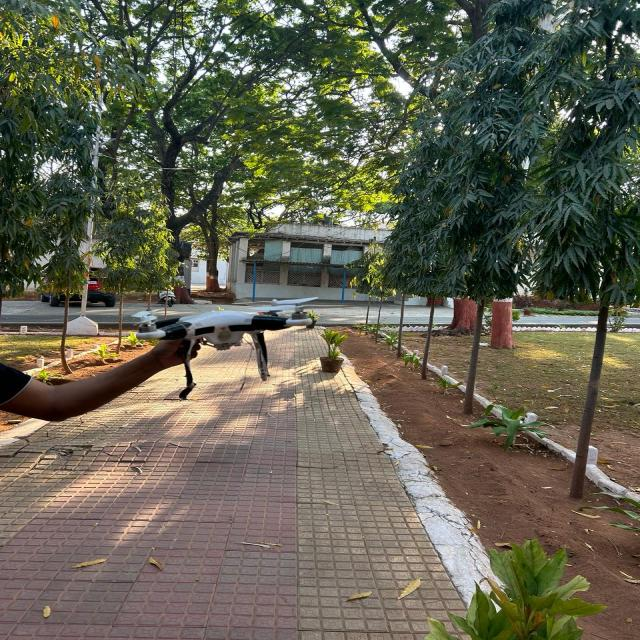drone: (132, 276, 342, 402)
